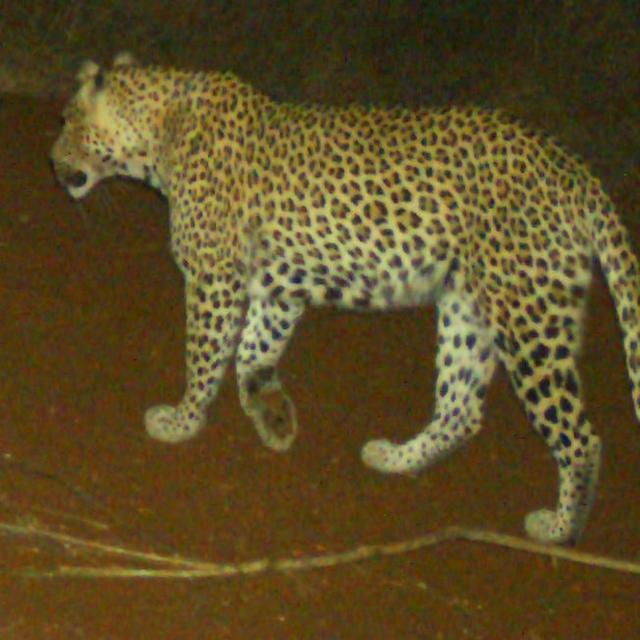Leopard: (24, 31, 640, 510)
